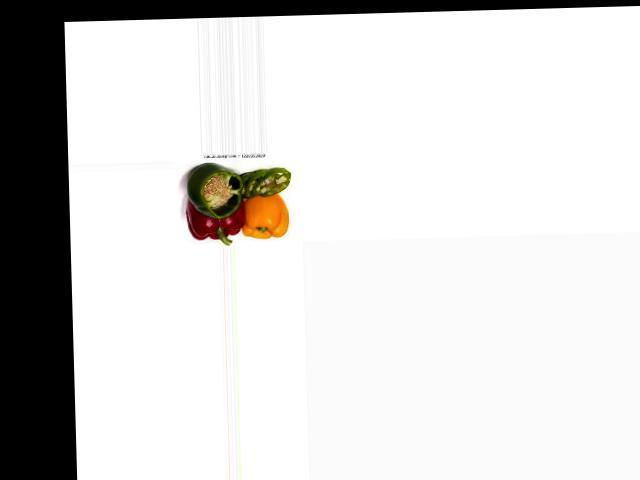bell_pepper: (181, 166, 244, 221)
